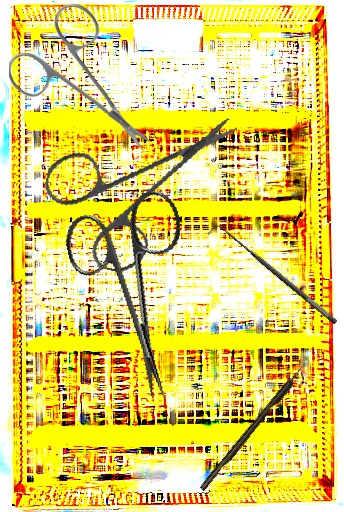Hook Surgical: (206, 218, 340, 334), (198, 361, 310, 492)
Iris Scissors: (30, 84, 239, 290), (58, 187, 219, 413), (7, 1, 152, 153)
